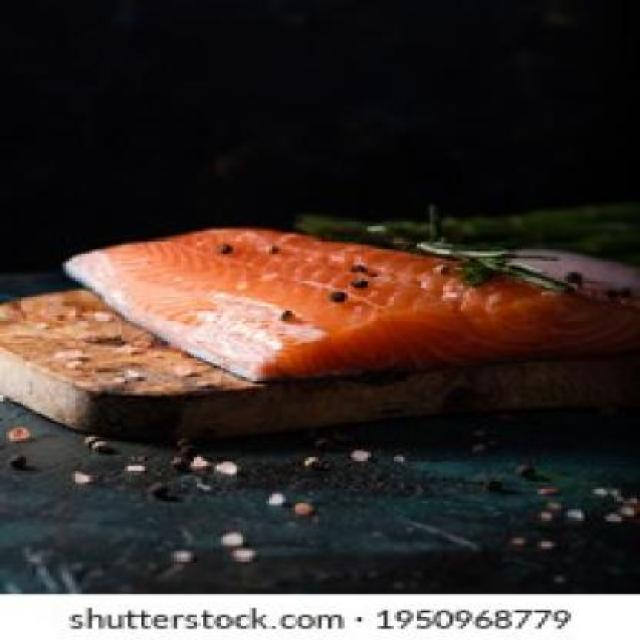salmon: (55, 203, 607, 404)
